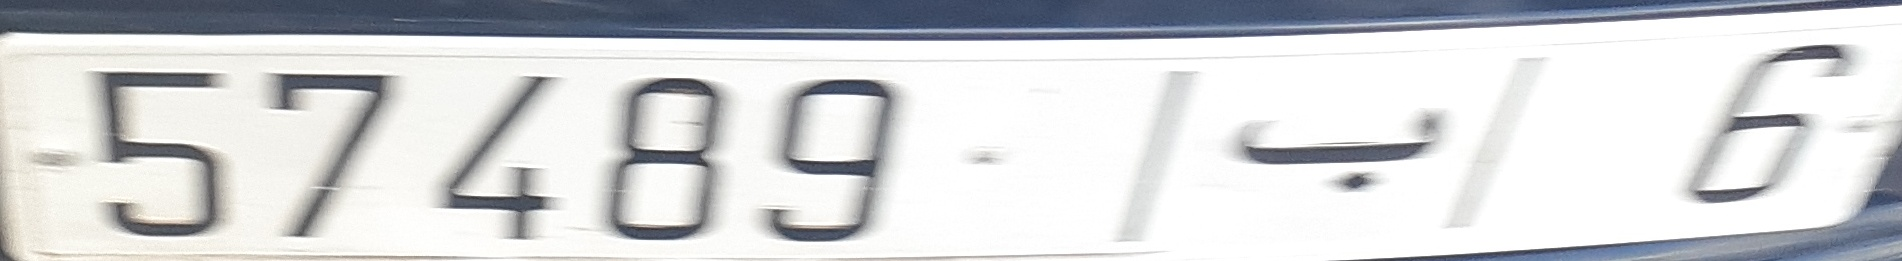4: (431, 64, 558, 237)
5: (87, 55, 233, 237)
6: (1682, 28, 1857, 210)
7: (260, 62, 401, 246)
8: (601, 76, 731, 242)
9: (754, 78, 906, 239)
b: (1222, 89, 1453, 201)
